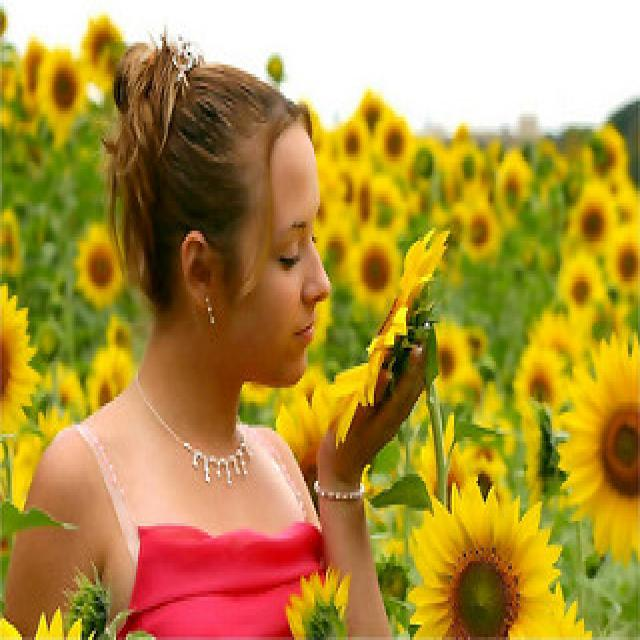sunflower: (400, 461, 558, 640), (332, 222, 455, 446), (554, 323, 640, 582), (2, 274, 44, 464), (28, 40, 90, 145), (68, 215, 128, 314), (560, 176, 620, 264), (512, 336, 572, 424), (72, 12, 132, 90), (600, 218, 640, 298), (456, 194, 498, 258)
